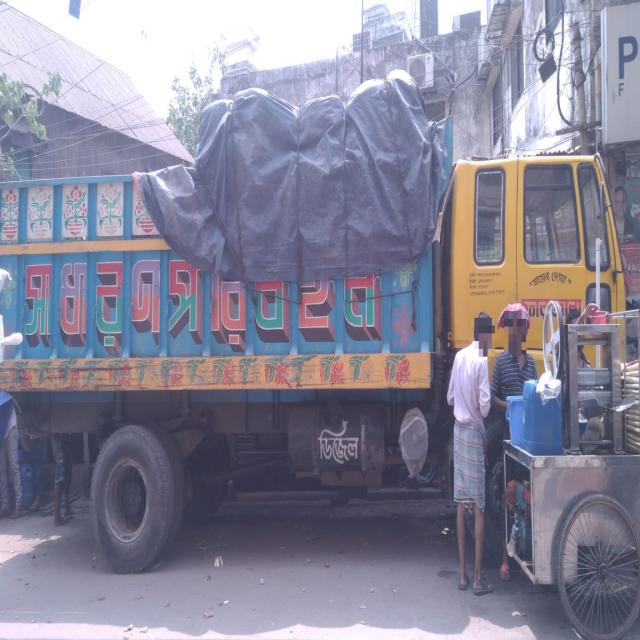truck: (0, 49, 640, 578)
